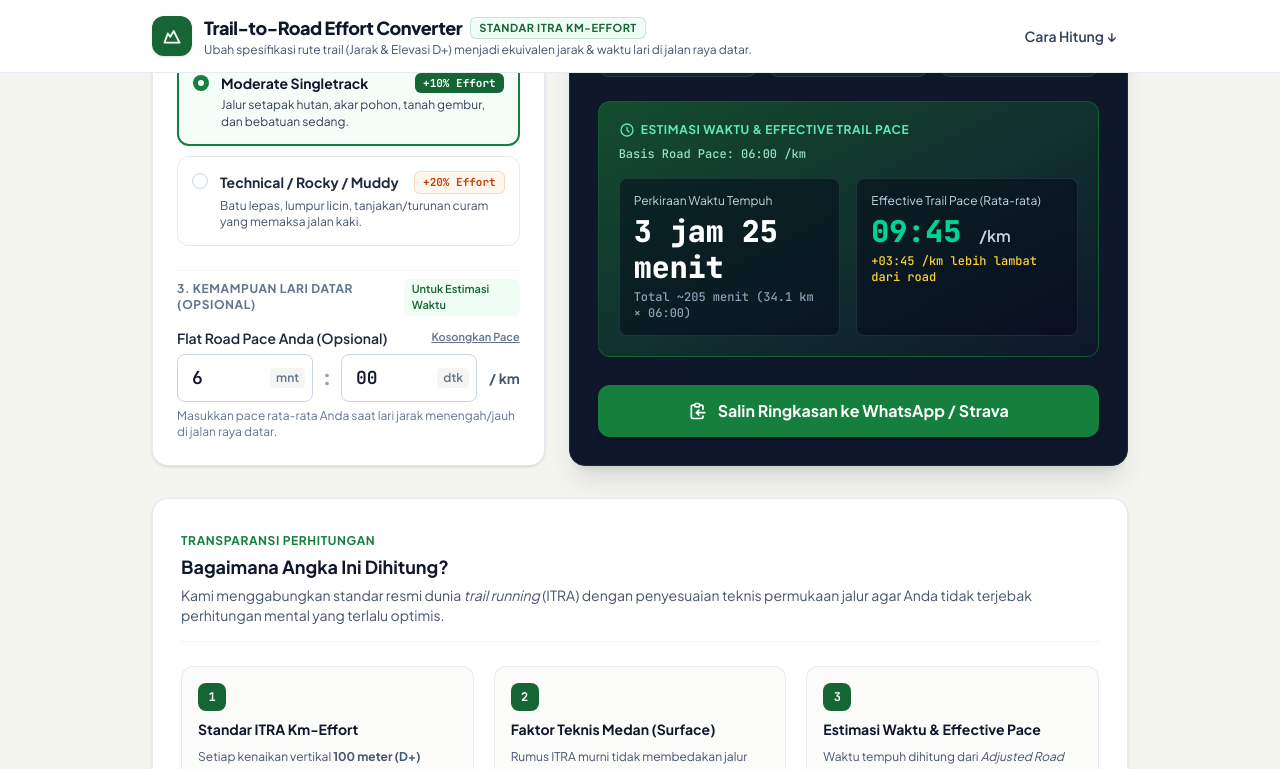
Test case: App UI Integration — Reactive Calculator & System States › shows manual copy fallback textarea when Clipboard API fails or is denied
(page scrolled)
Click the button "Salin Ringkasan ke WhatsApp / Strava" at (848,410), box [598,384,1099,436]
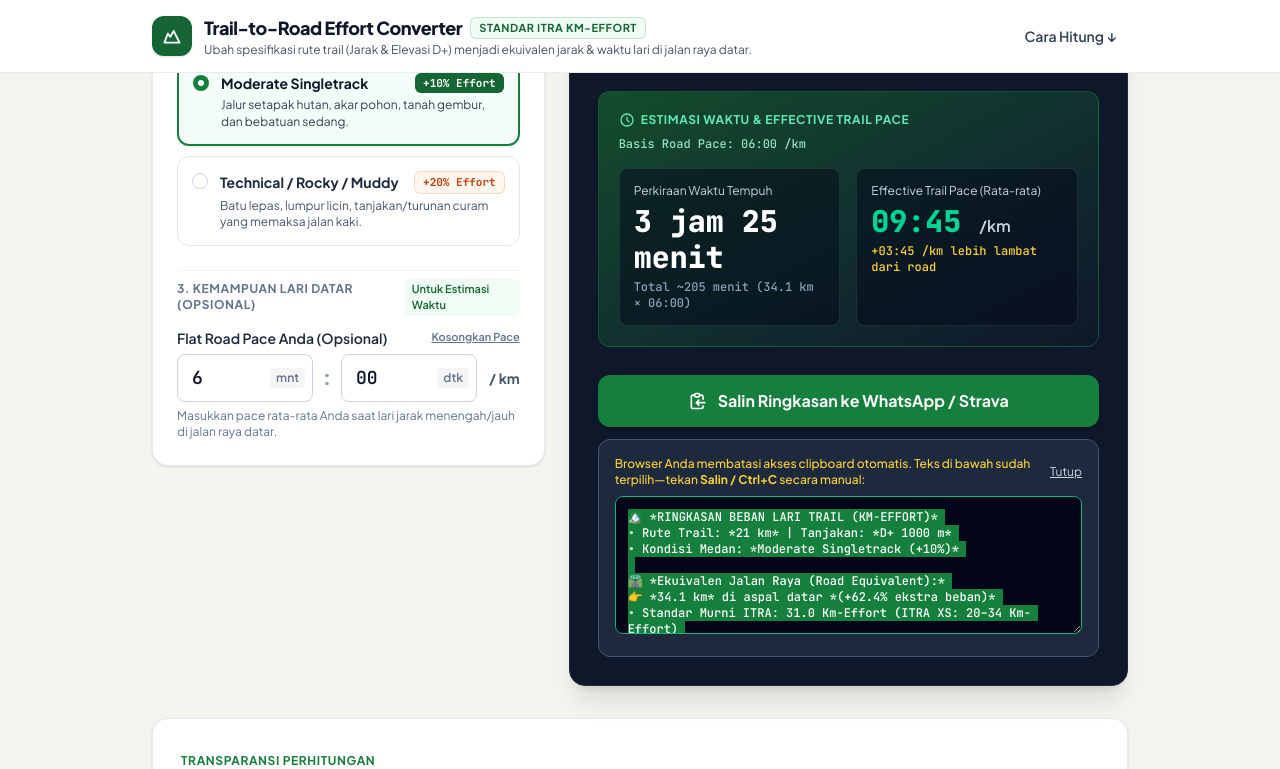
expect the element with test id "clipboard-fallback-box" is shown: met, box [598,438,1099,656]
Note: Dismiss fallback box
Click the button "Tutup" at (1066,472), box [1050,464,1082,480]
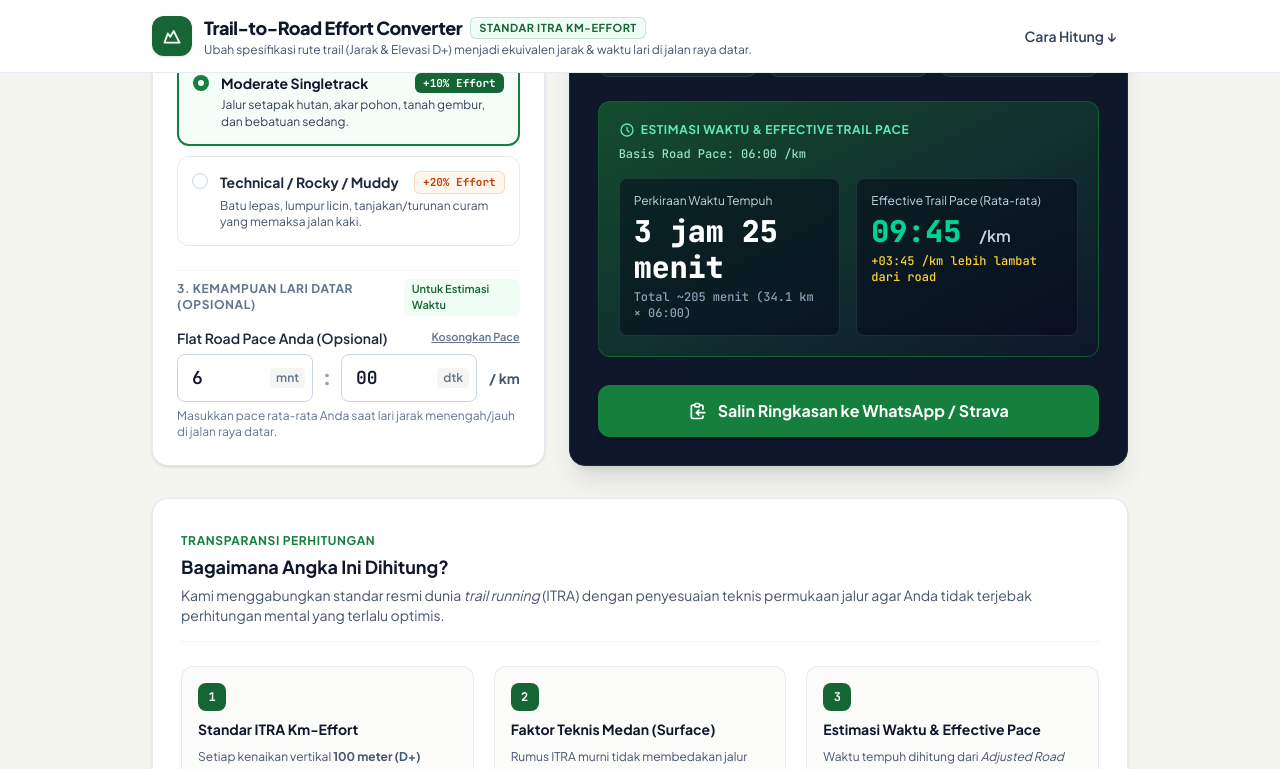
expect the element with test id "clipboard-fallback-box" is gone: met
